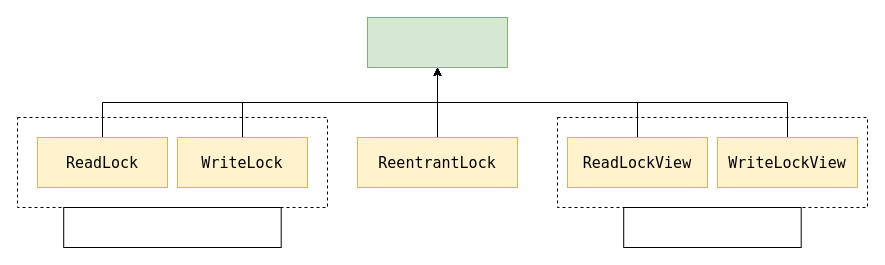
This 885x265 diagram has some shape labels left out. Each missing label, with the centre of its shape:
"Lock" belongs at (x=437, y=42).
"ReentrantReadWriteLock" belongs at (x=172, y=227).
"StampedLock" belongs at (x=712, y=227).
